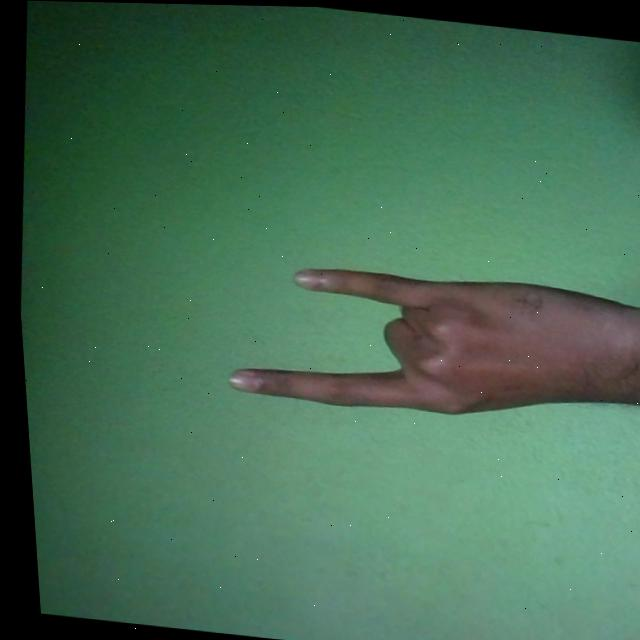Rock On: (213, 249, 640, 437)
